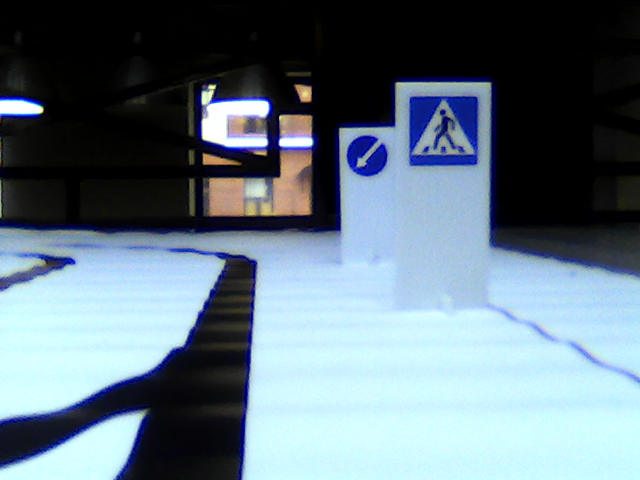pesh: (406, 94, 481, 167)
prep: (347, 133, 388, 176)
